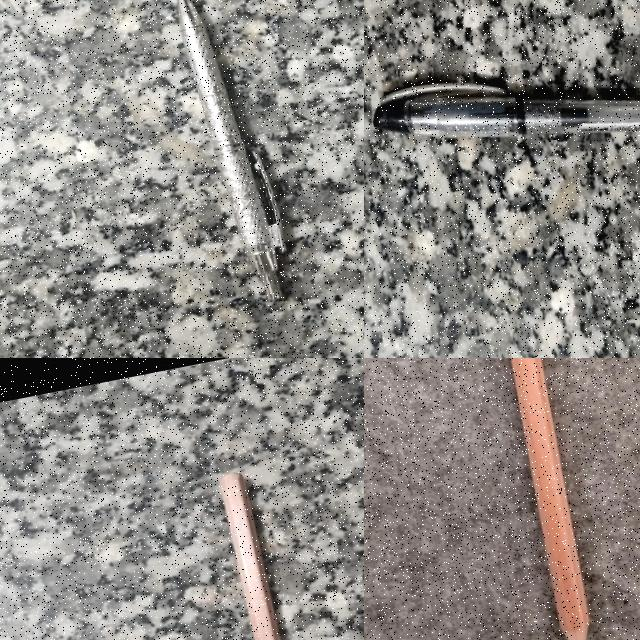pen: (374, 84, 639, 137)
pencil: (511, 358, 589, 639), (221, 474, 280, 639)
signature pen: (177, 0, 285, 300)
